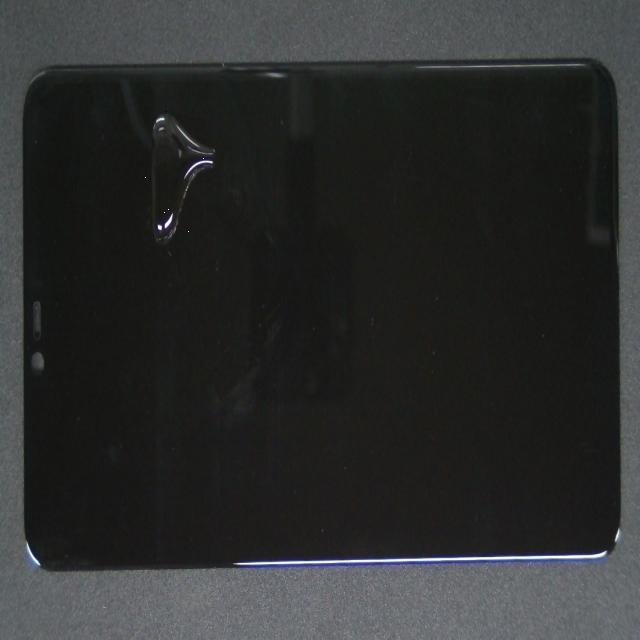oil: (67, 21, 223, 275)
